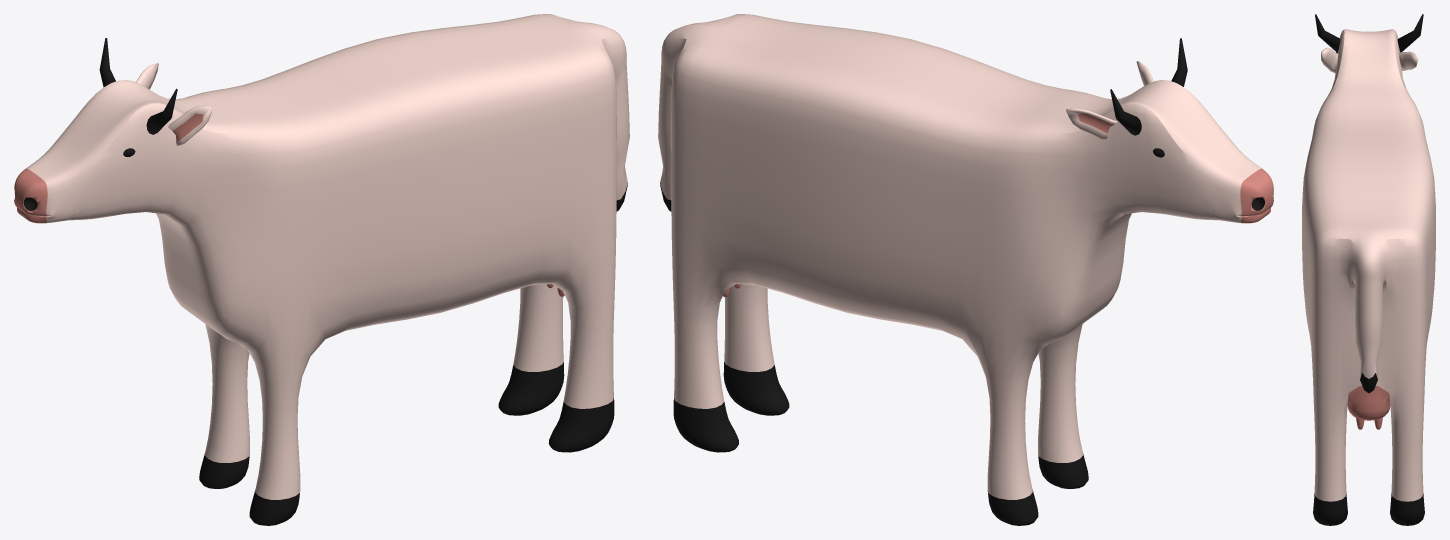
Rendered from 3D_Cow.fbx.
The picture shows the model from 3 angles, left to right: view 1: azimuth 30°, elevation 25°; view 2: azimuth 150°, elevation 25°; view 3: azimuth 270°, elevation 25°; orthographic projection. The views are drawn at different scales.
Parts seen in each view (by area): view 1: Cow; view 2: Cow; view 3: Cow.
Part boxes in pixels (left/top/right/bottom): Cow: left=14, top=14, right=629, bottom=525; Cow: left=658, top=14, right=1273, bottom=525; Cow: left=1302, top=14, right=1435, bottom=525.
Size of the model in its own units: 592 by 431 by 147.
